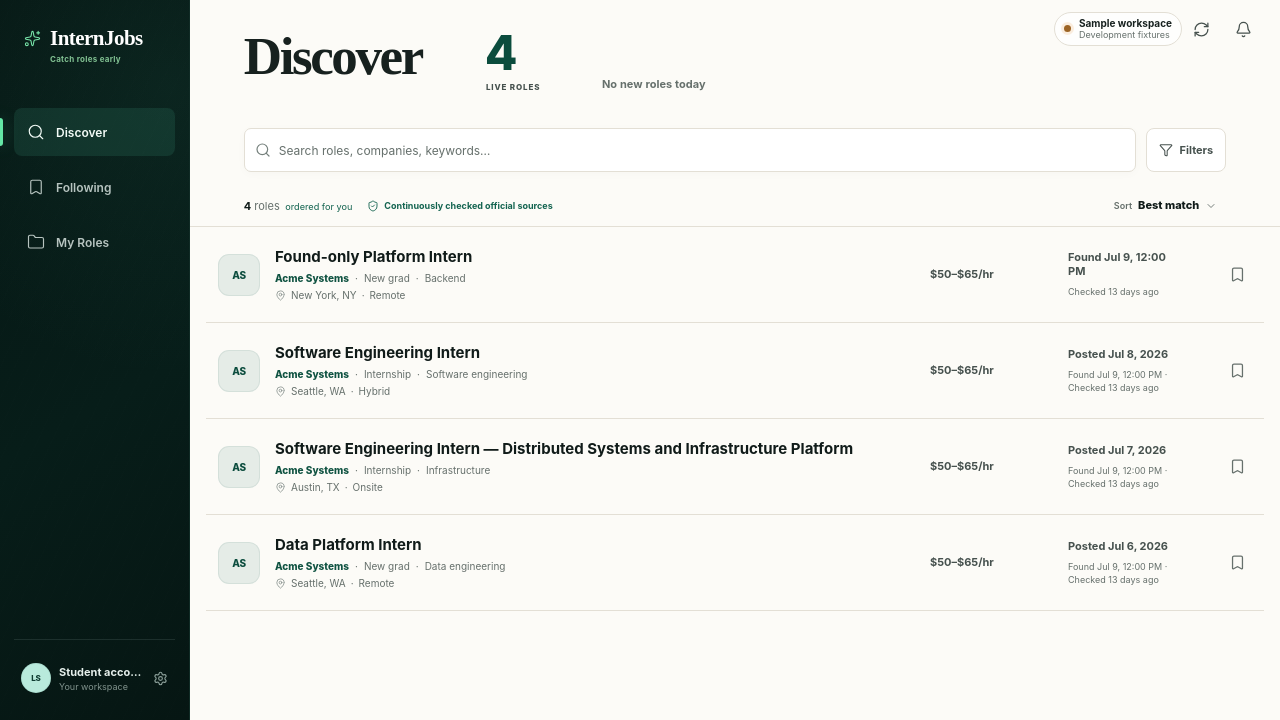
Test: student workspace › keeps one semantic filter set and traps the mobile filter sheet without native selects
Click the button "Filters" at (1186, 150), box [1146,128,1226,172]
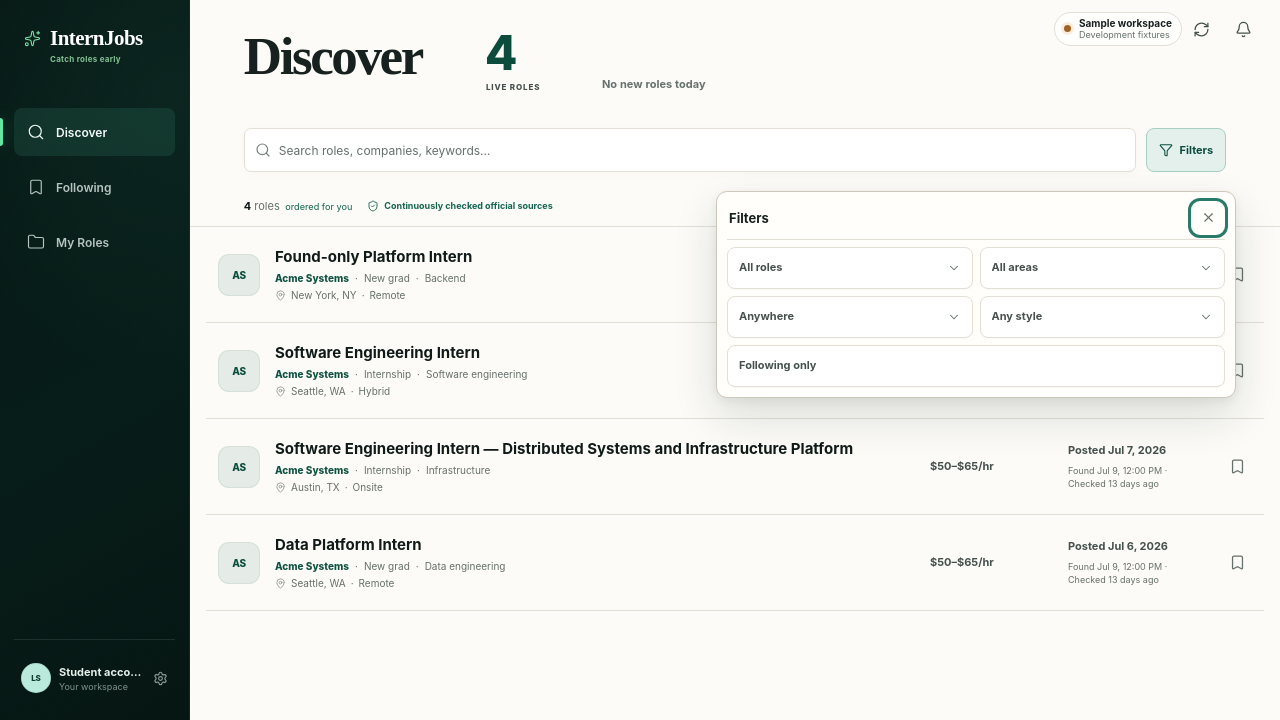
Check: the button "Filters" is expanded, box [1146,128,1226,172]
Click the button with aria-label "Locations: Anywhere" at (850, 317), box [727,296,972,338]
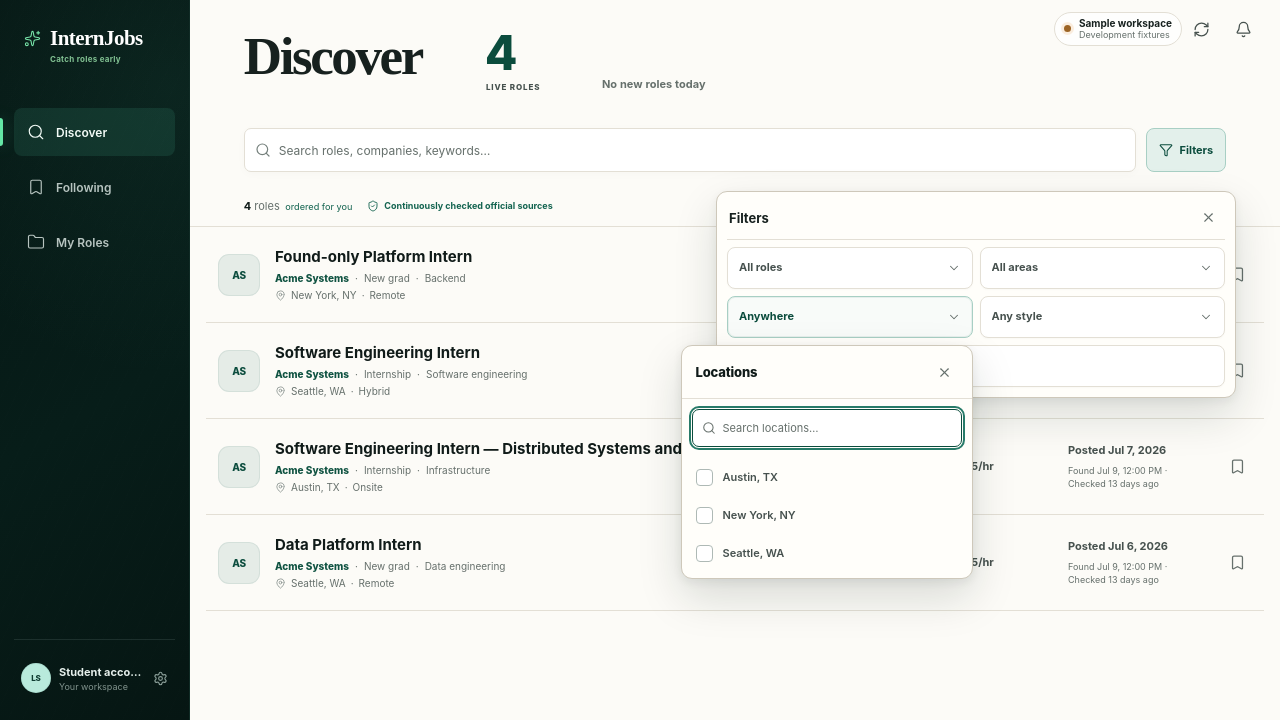
Press Escape
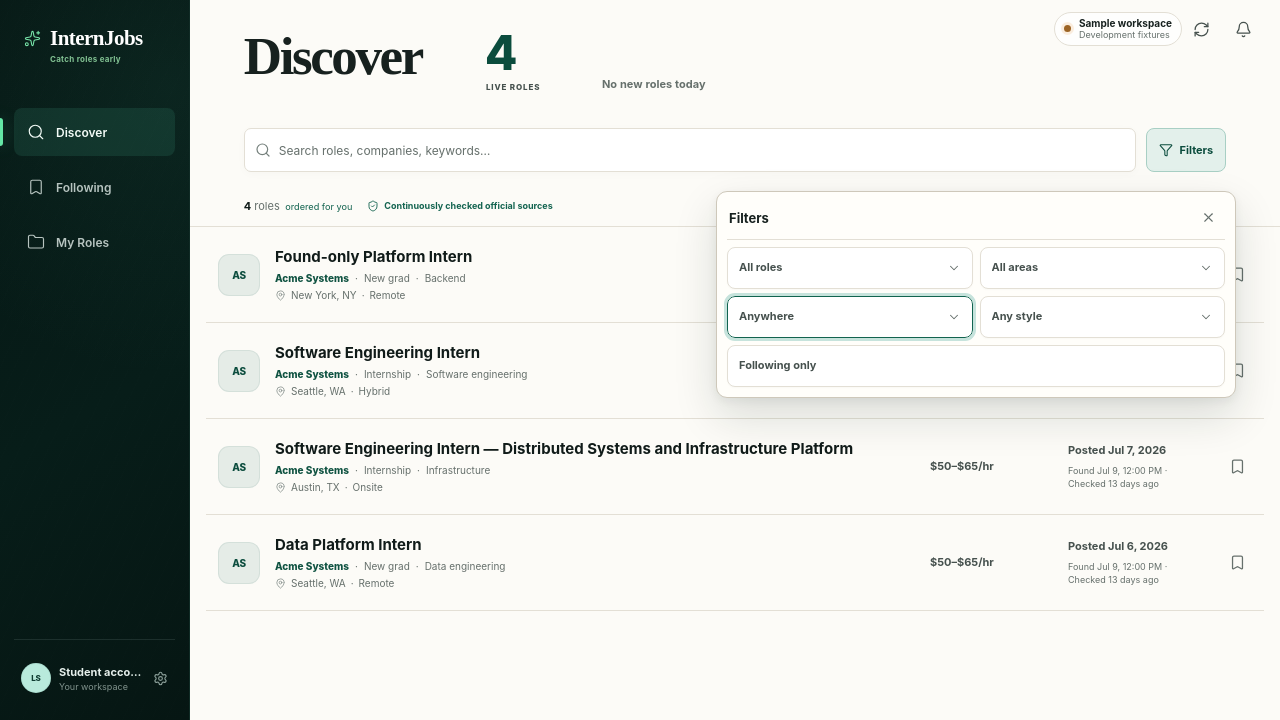
Press Escape
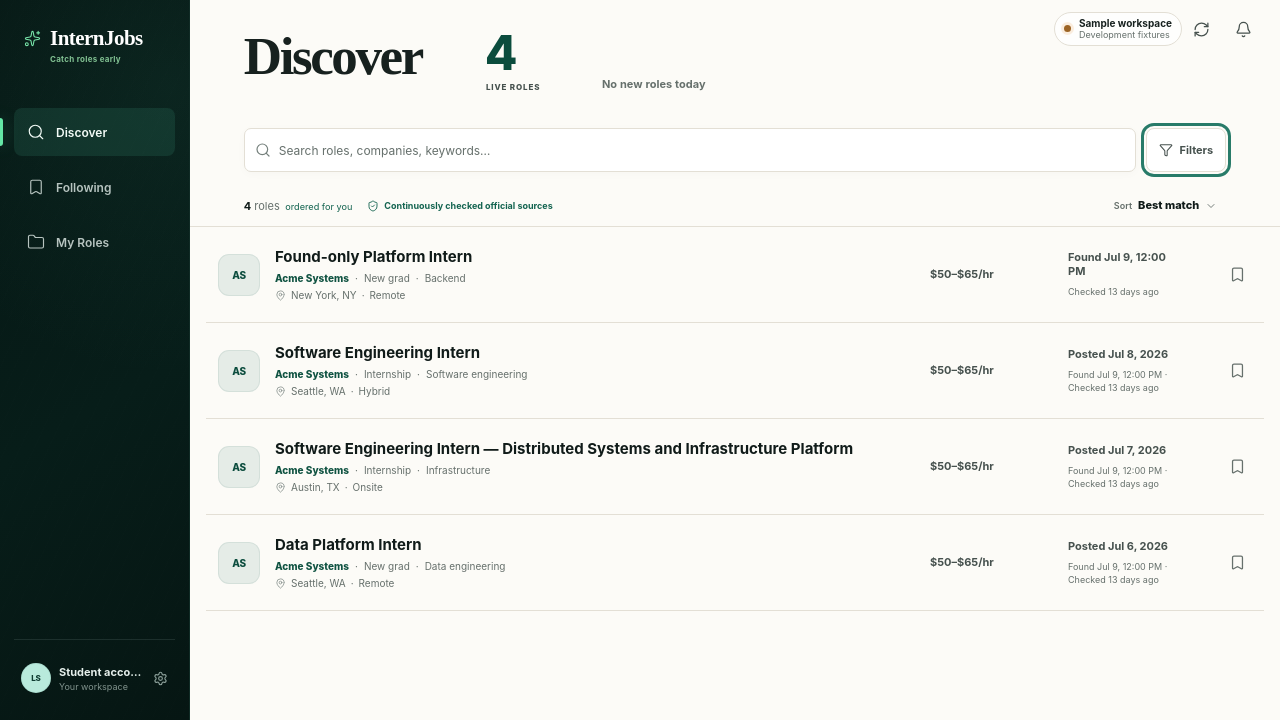
Check: the button "Filters" is collapsed, box [1146,128,1226,172]
